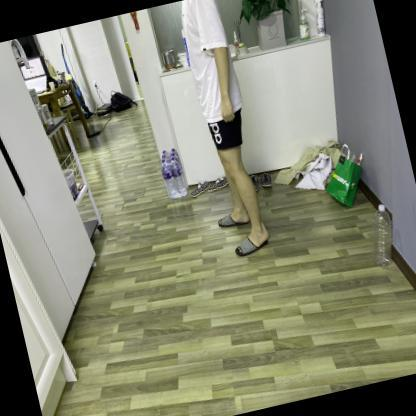no_safety-shoe: (229, 222, 282, 262), (211, 206, 259, 238)
